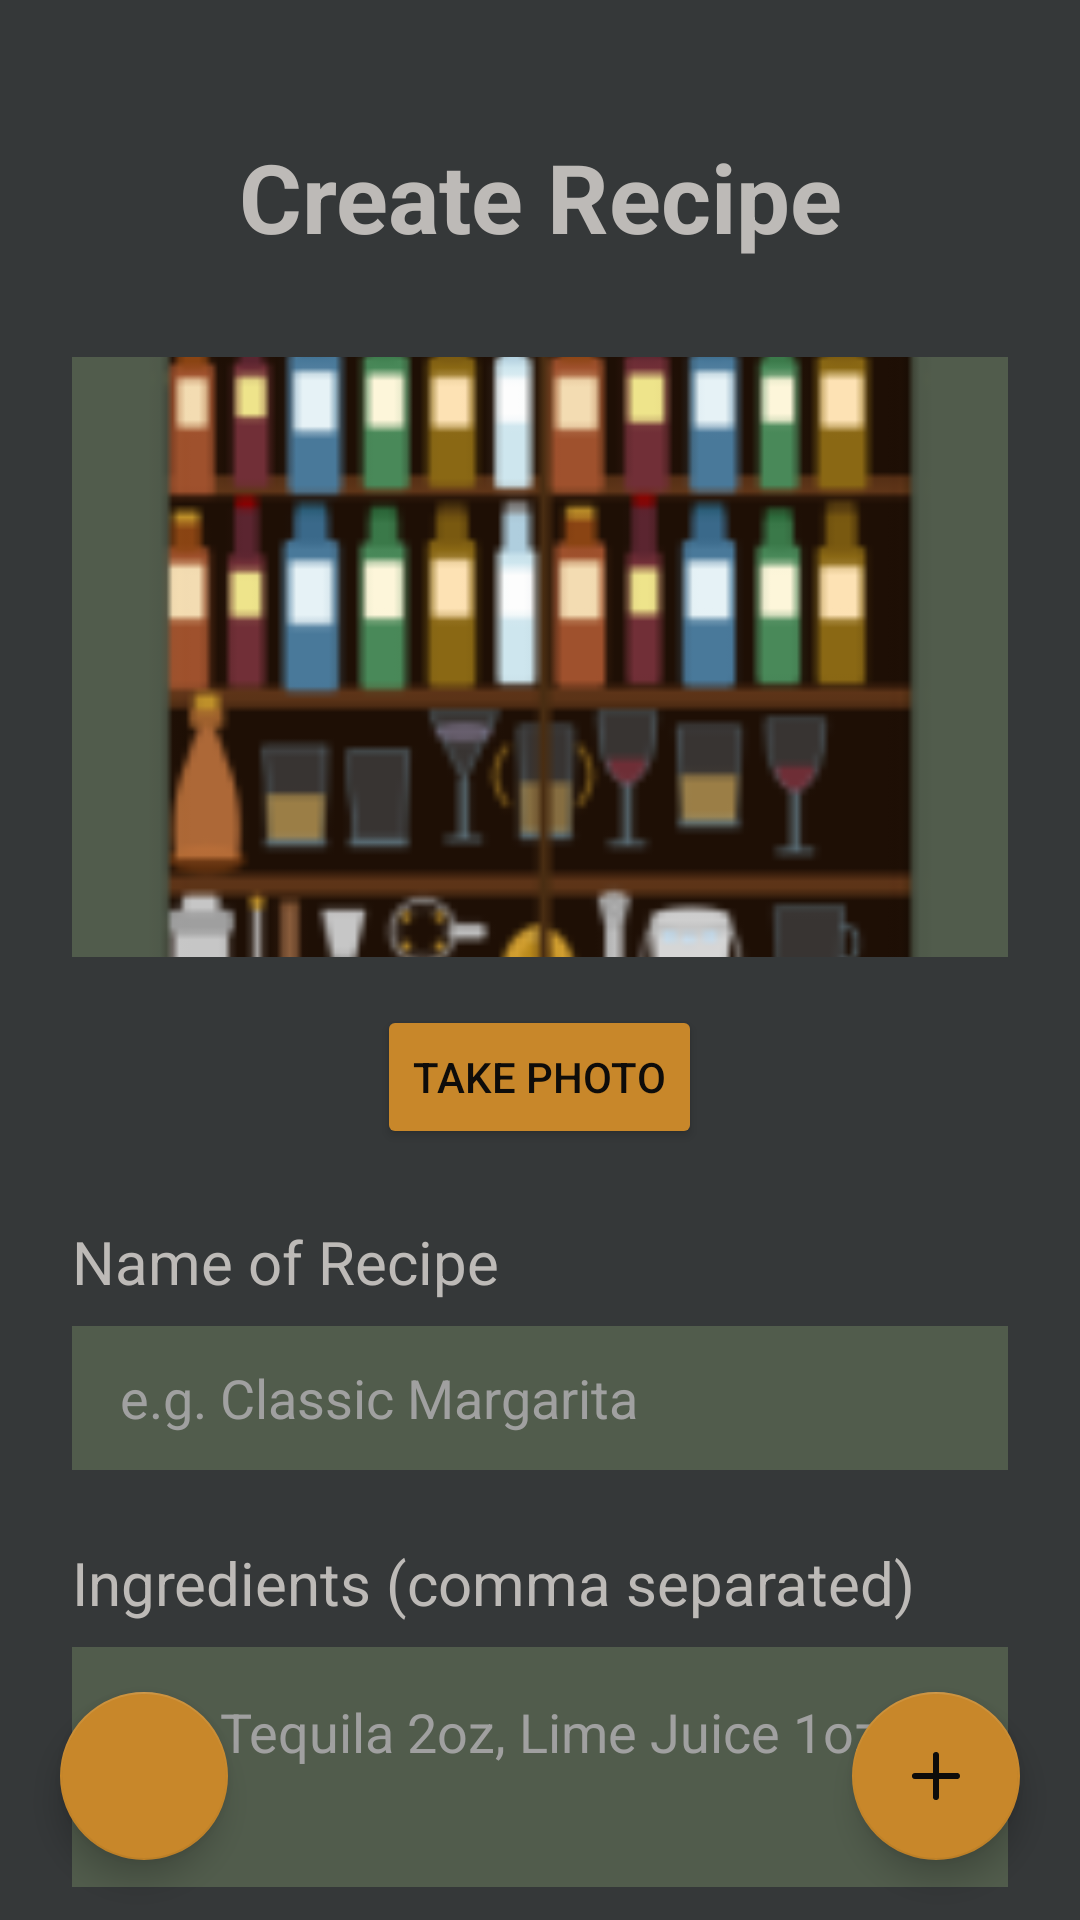

Icon bounding boxes for this 1080*1920 phone screenshot, format (x1, y1, x2, y2):
Save Recipe: (852, 1692, 1020, 1860)
